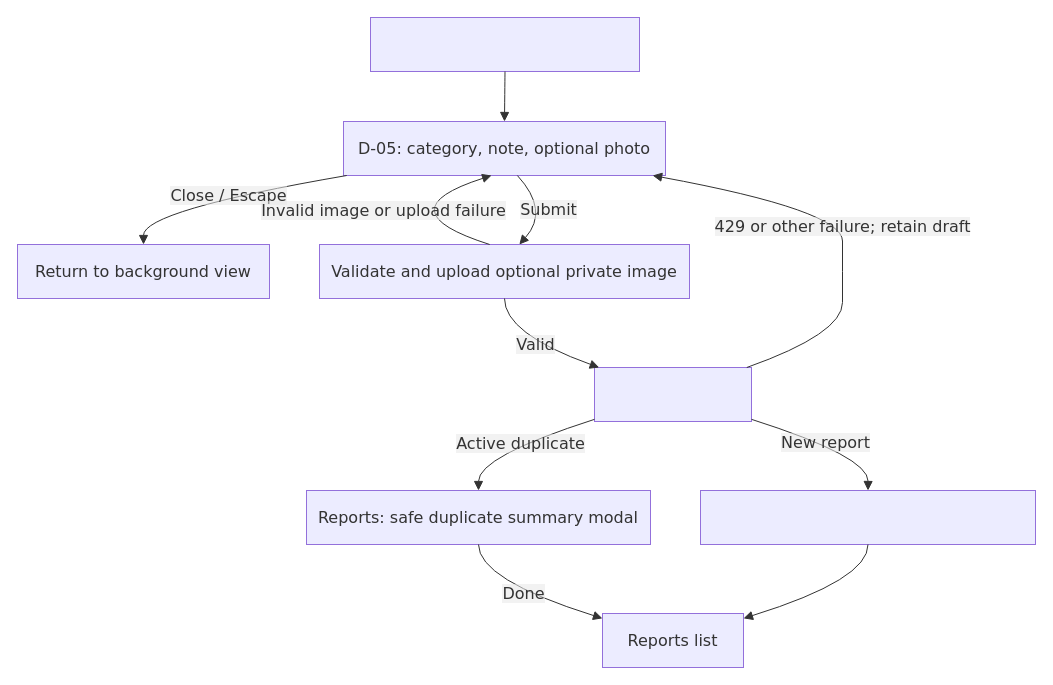
This 1053x685 diagram has some shape labels left out. Here are the shapes that lost their labels. From the top down, the centre of each, then its label:
pixel 505 44: D-03 or D-04: Report an issue
pixel 673 394: report.create
pixel 868 517: Reports: Pending reference and expiry
